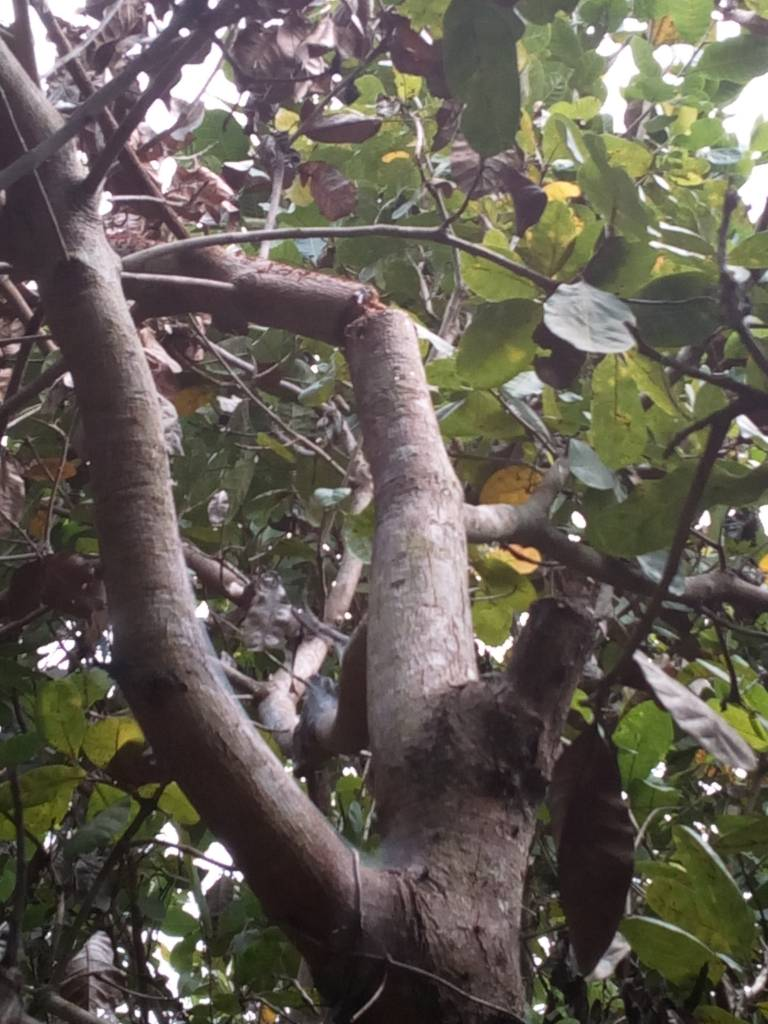Analepse trifasciata: (315, 275, 447, 372), (511, 588, 635, 667)
